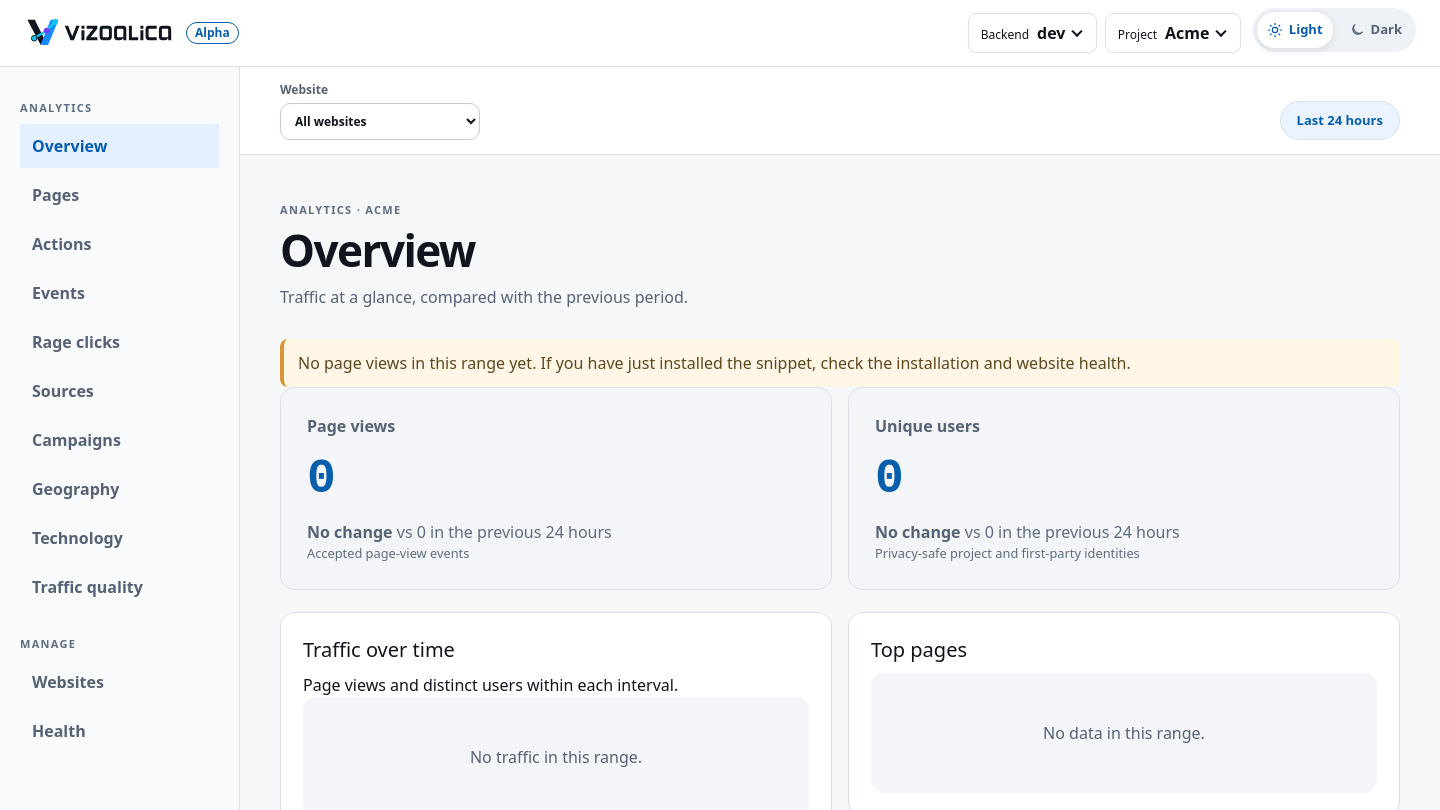
single scope control › does not refetch analytics when moving between Analytics views in the same scope
Click the link "Technology" at (77, 538), box [32,527,123,549]
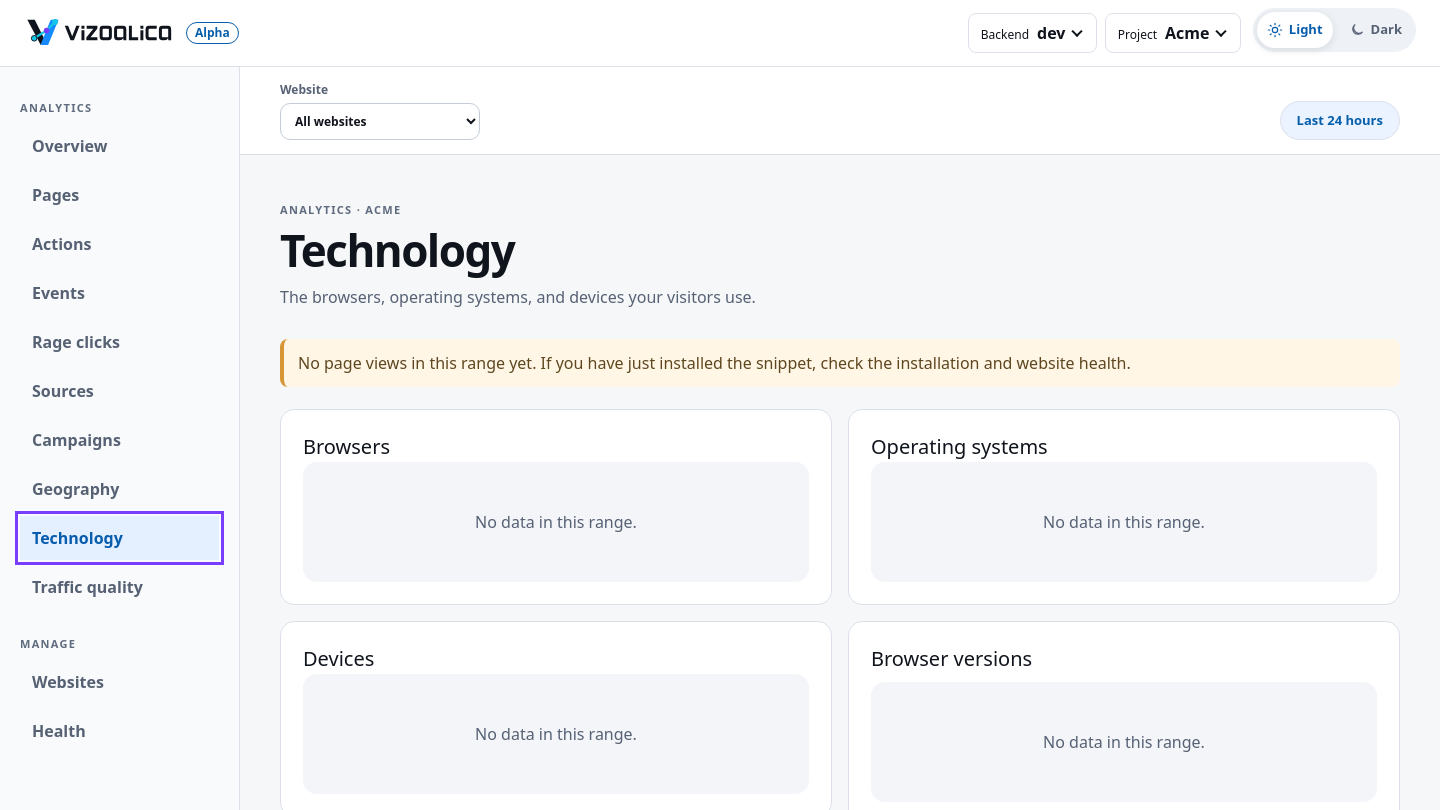
Expected: the heading "Technology" is shown, [280,220,514,280]
Click the link "Traffic quality" at (87, 587), box [32,576,143,598]
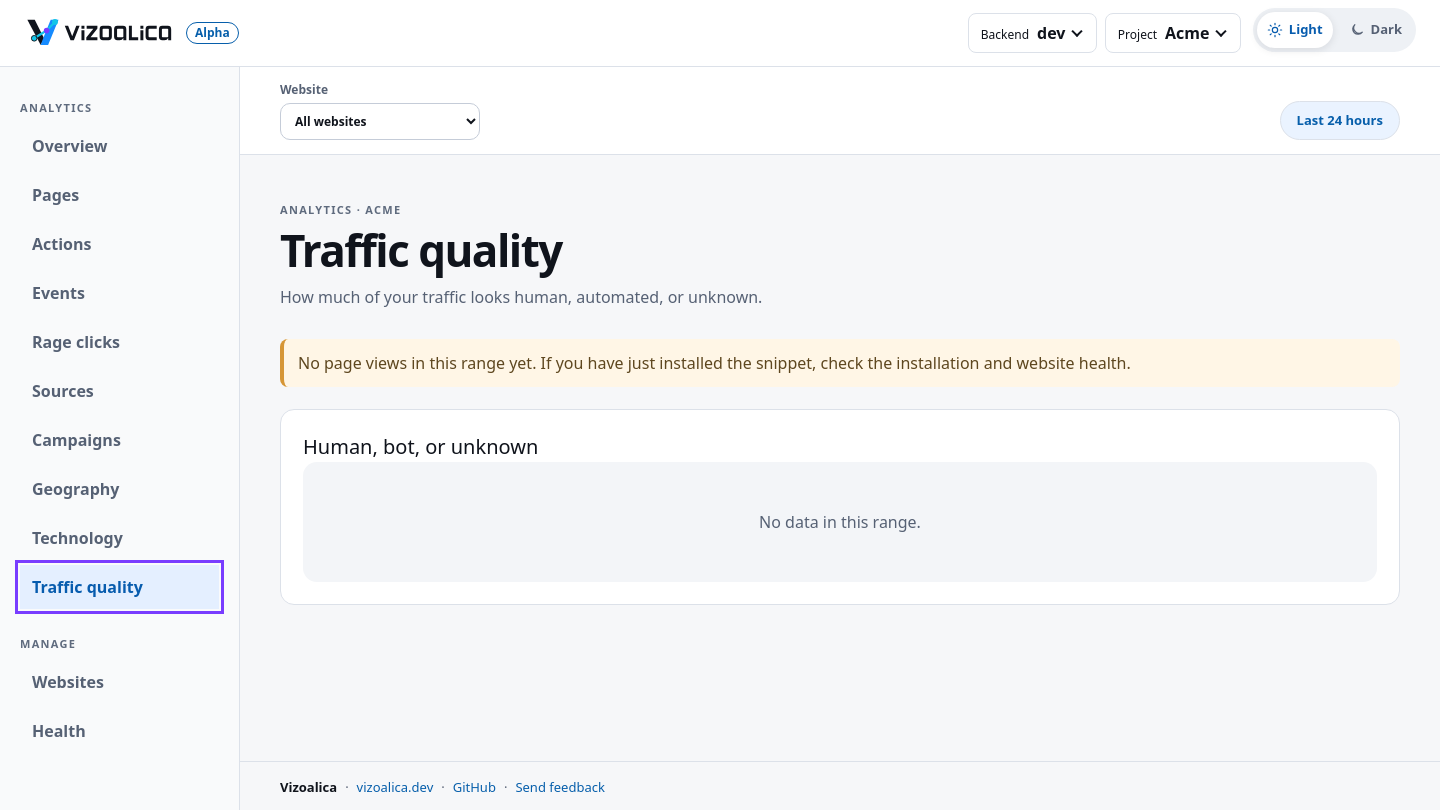
Expected: the heading "Traffic quality" is shown, [280,220,562,280]
